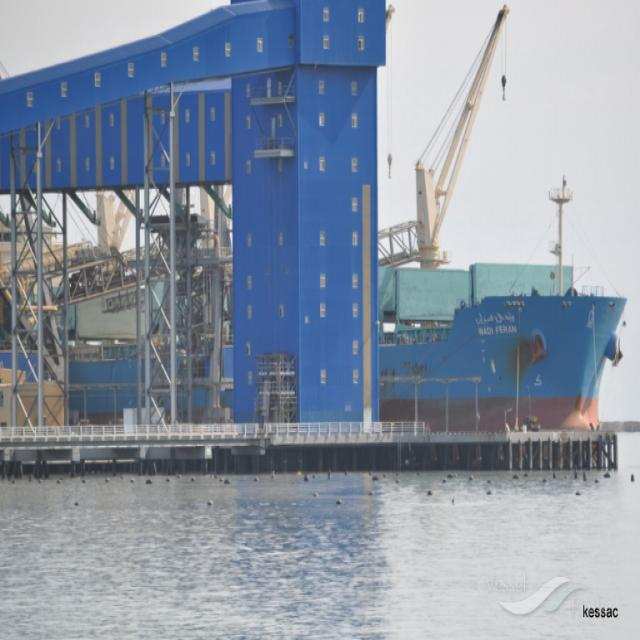OCR: (473, 308, 520, 348)
